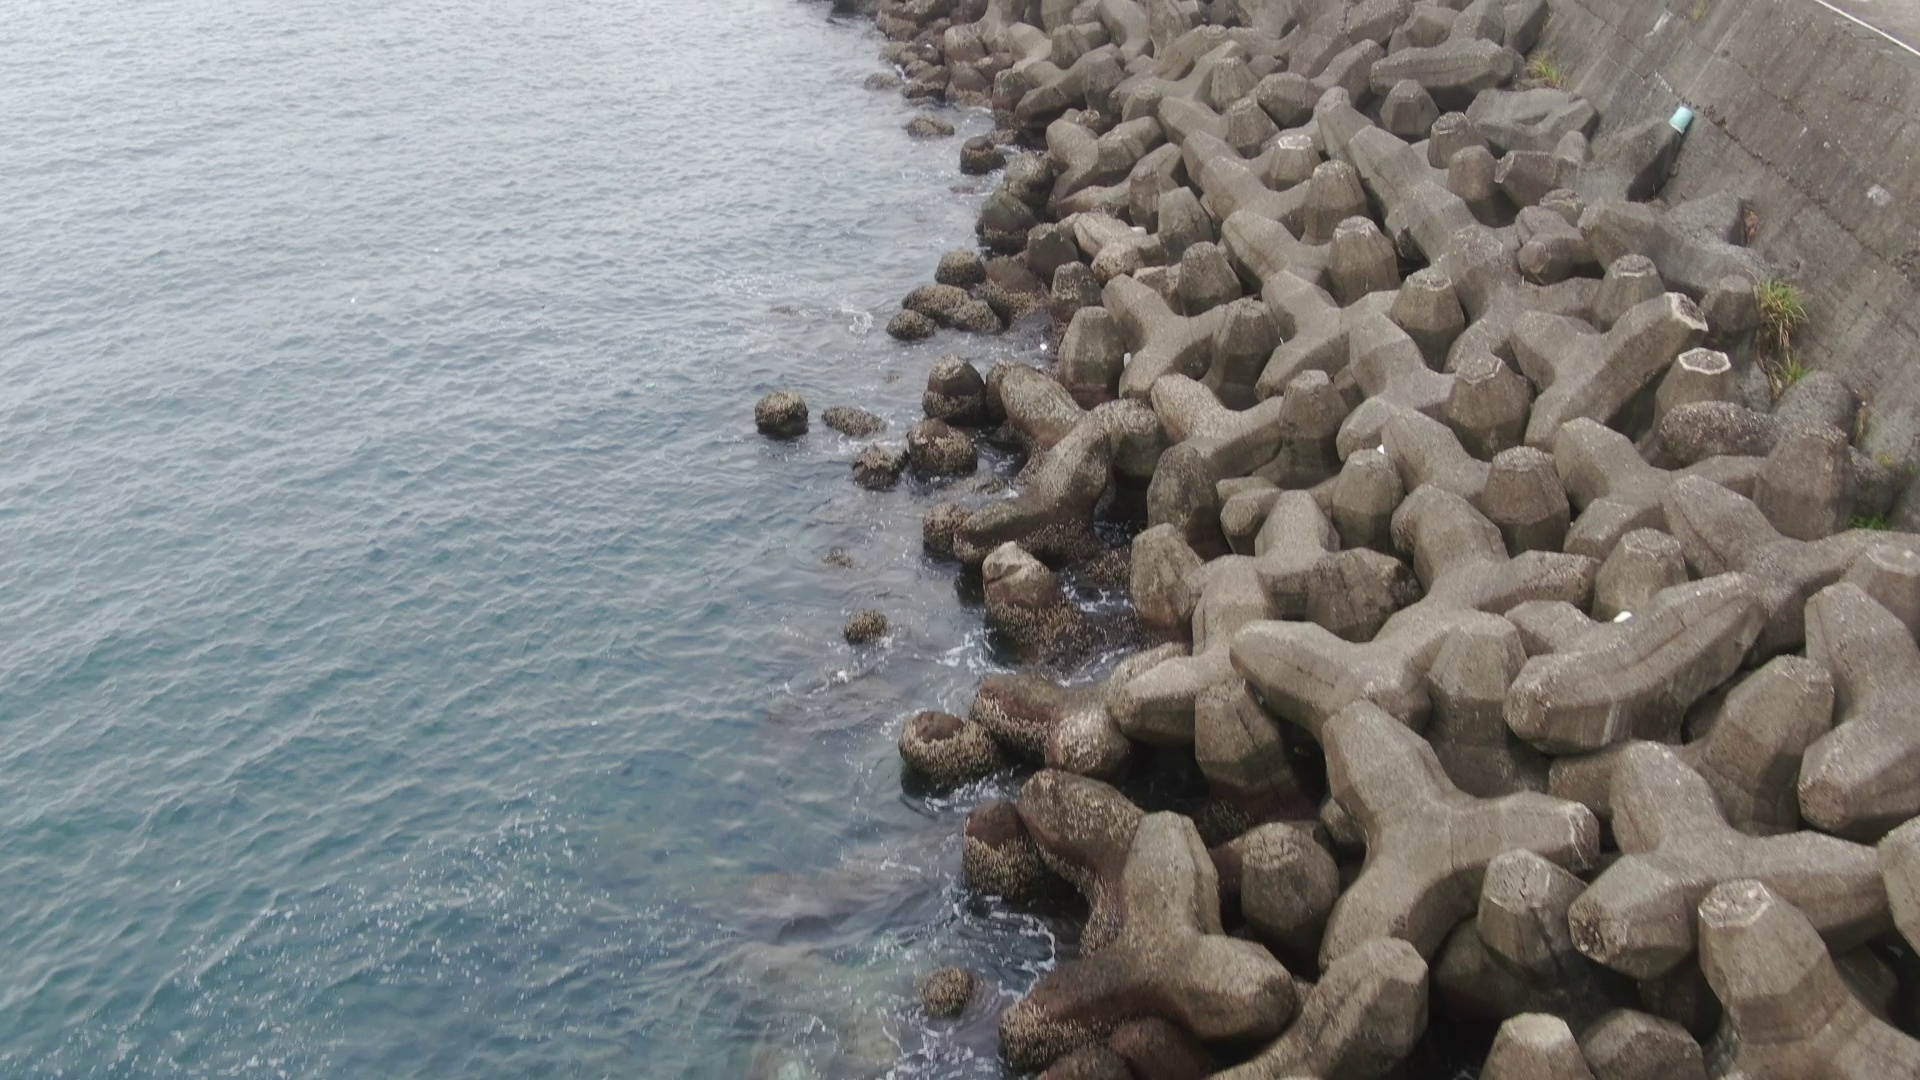garbage: (1662, 98, 1702, 142)
